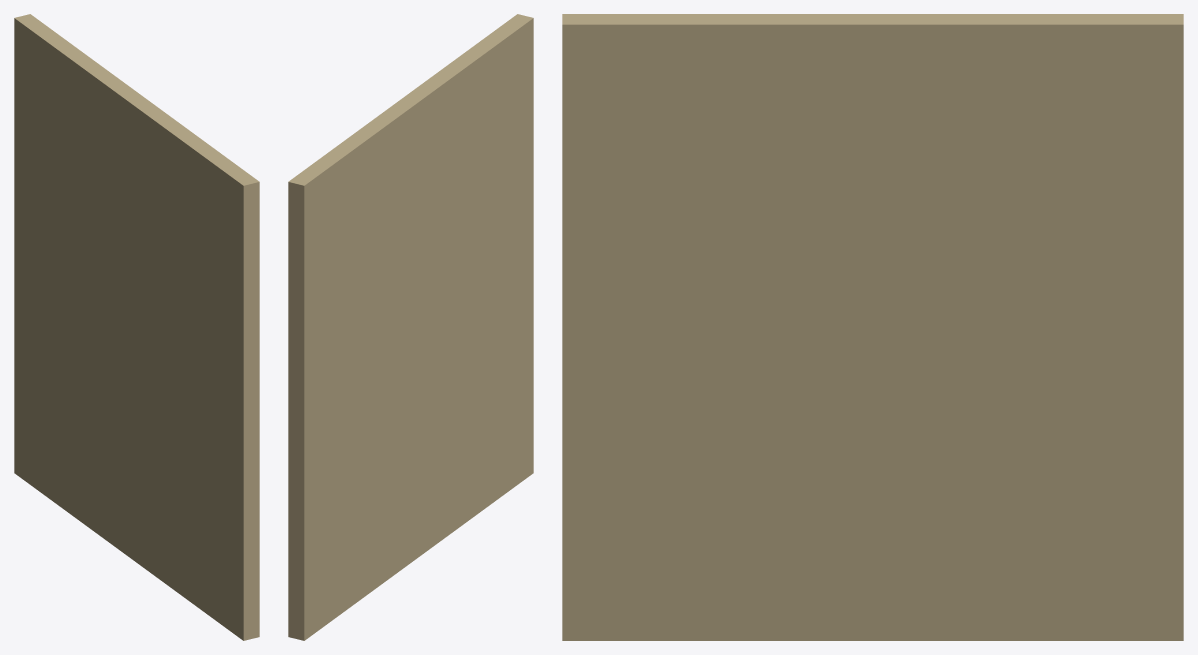
The picture shows the model from 3 angles, left to right: view 1: azimuth 30°, elevation 25°; view 2: azimuth 150°, elevation 25°; view 3: azimuth 270°, elevation 25°; orthographic projection. The views are drawn at different scales.
Visible parts, largest first — view 1: GF-W136; view 2: GF-W136; view 3: GF-W136.
Part boxes in pixels (<box>): GF-W136: <box>14,14,259,640</box>; GF-W136: <box>288,14,533,640</box>; GF-W136: <box>562,14,1183,640</box>.
Bounding box in the file's own units: 0.09 × 2.42 × 2.21.
